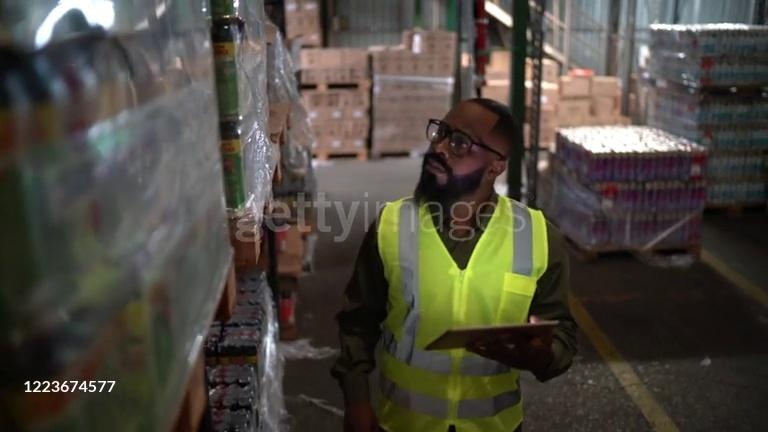person: (330, 98, 581, 432)
